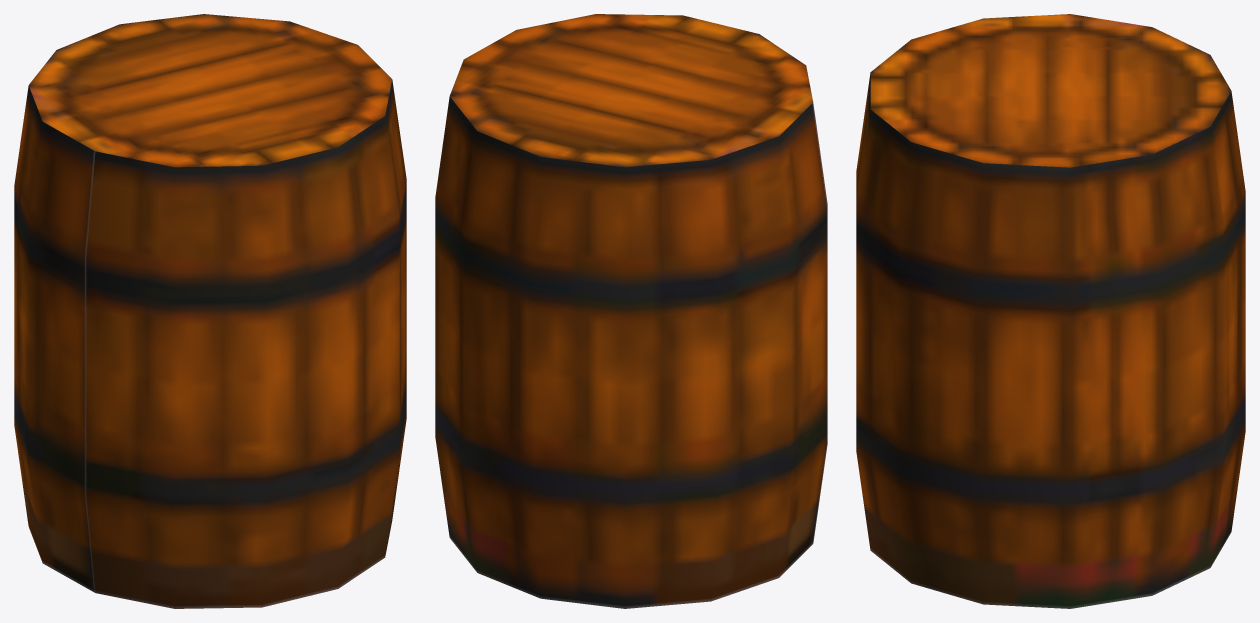
The model's file is dhool1 (1).fbx.
3 renders of one model, left to right at view 1: azimuth 30°, elevation 25°; view 2: azimuth 150°, elevation 25°; view 3: azimuth 270°, elevation 25°, orthographic.
Visible parts, largest first — view 1: dhool1; view 2: dhool1; view 3: dhool1.
Part boxes in pixels (<box>): dhool1: <box>14,14,406,608</box>; dhool1: <box>435,14,827,608</box>; dhool1: <box>856,14,1245,608</box>.
Bounding box in the file's own units: 16.63 × 20.64 × 16.51.
Materials: 1 (1 with a texture image).
